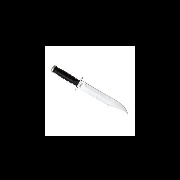k1: (73, 75, 128, 115)
